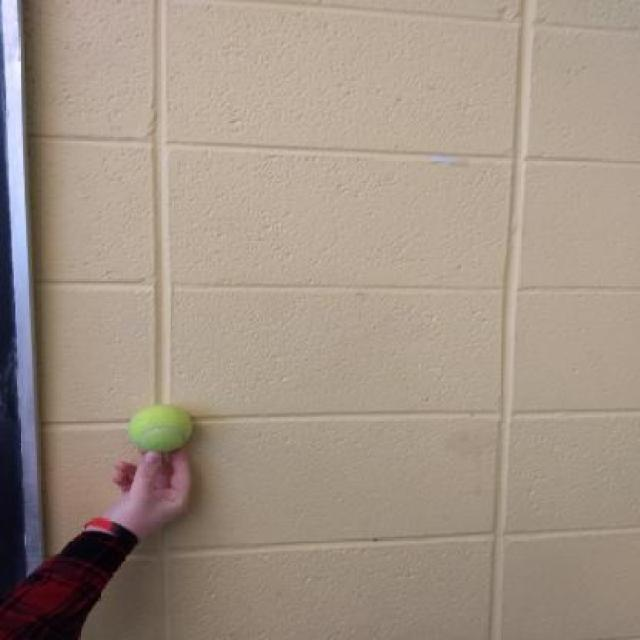Tennis_Ball: (132, 404, 192, 462)
